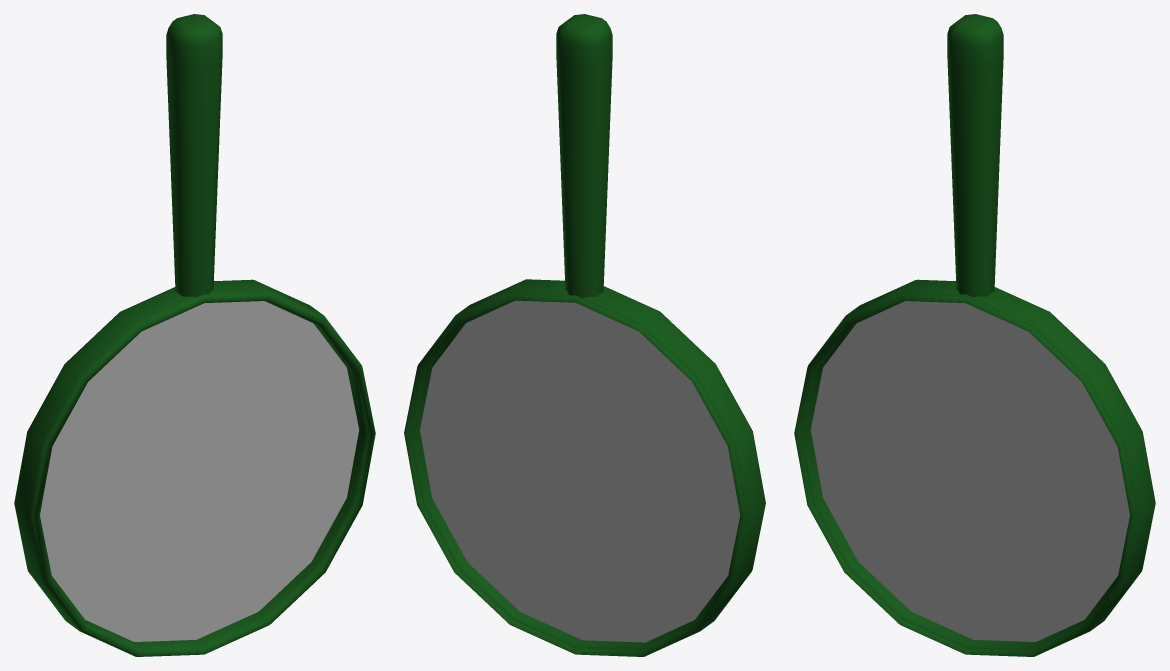
File: Lens.fbx
3 views of the same model, side by side, from view 1: azimuth 30°, elevation 25°; view 2: azimuth 150°, elevation 25°; view 3: azimuth 330°, elevation 25° (orthographic).
Parts seen in each view (by area): view 1: Lens; view 2: Lens; view 3: Lens.
Part boxes in pixels (x1=…): Lens: x1=14, y1=14, x2=375, y2=656; Lens: x1=404, y1=14, x2=765, y2=656; Lens: x1=794, y1=14, x2=1155, y2=656.
Bounding box in the file's own units: 19.45 × 33.77 × 2.43.
